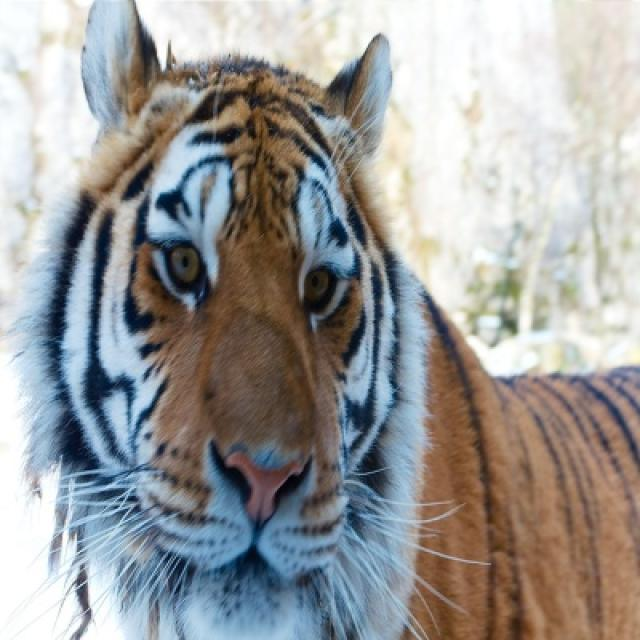Tiger: (18, 0, 638, 638)
